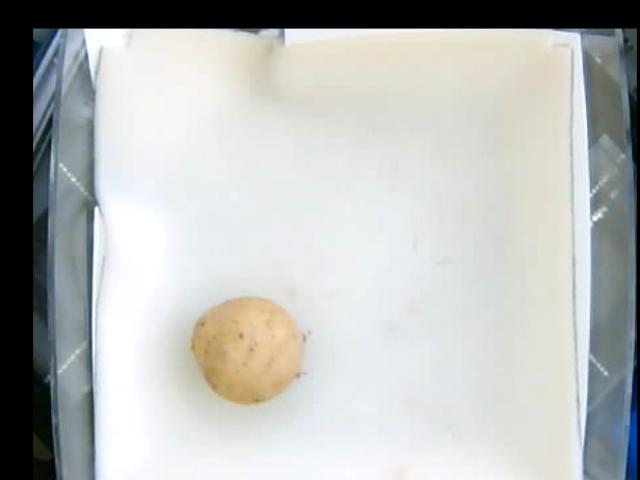Potato: (193, 293, 306, 405)
